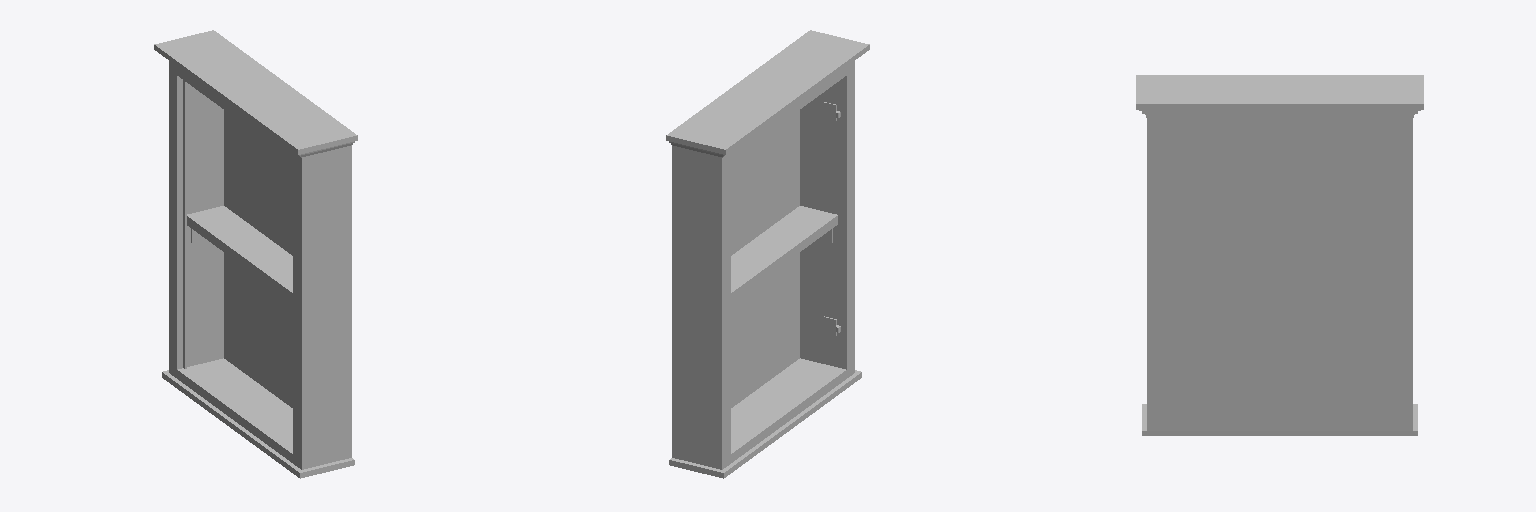
File: CabinetBody.obj
3 renders of one model, left to right at view 1: azimuth 30°, elevation 25°; view 2: azimuth 150°, elevation 25°; view 3: azimuth 270°, elevation 25°, orthographic.
Parts seen in each view (by area): view 1: SM_Cabinet_Main; view 2: SM_Cabinet_Main; view 3: SM_Cabinet_Main.
Boxes of the visible parts, <box> form: SM_Cabinet_Main: <box>154,30,357,478</box>; SM_Cabinet_Main: <box>666,30,869,478</box>; SM_Cabinet_Main: <box>1136,75,1423,435</box>.
Size of the model in its own units: 0.1468 by 0.7829 by 0.6154.